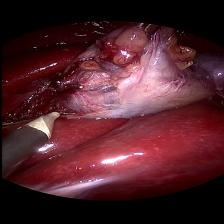Hook: (11, 105, 78, 152)
